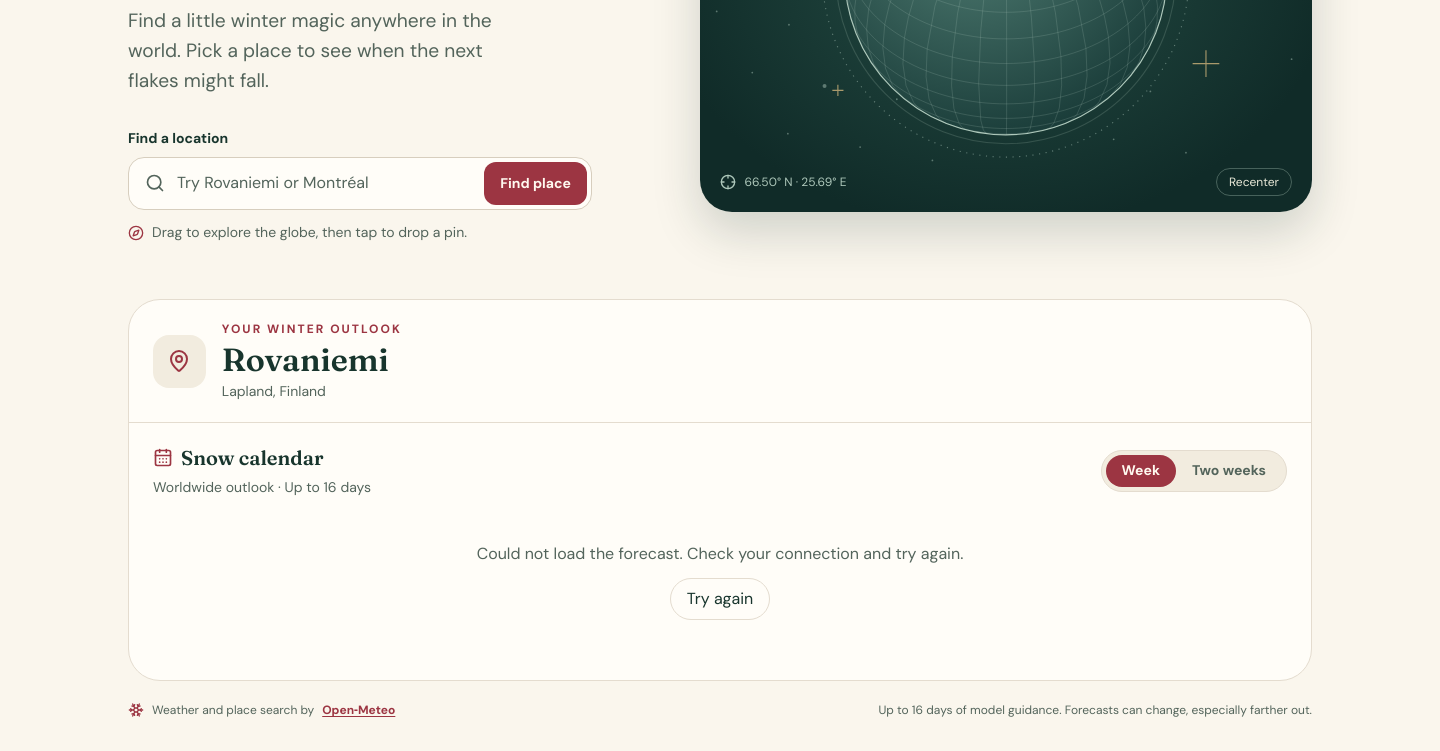
Test: Snowpost › surfaces a forecast error and can retry
The image size is (1440, 751).
(page scrolled)
Expected: the message shows "Could not load the forecast", top-left (477, 543), bottom-right (963, 564)
Step 1. Click the button "Try again" → point(720, 599), box top-left (670, 578), bottom-right (770, 620)
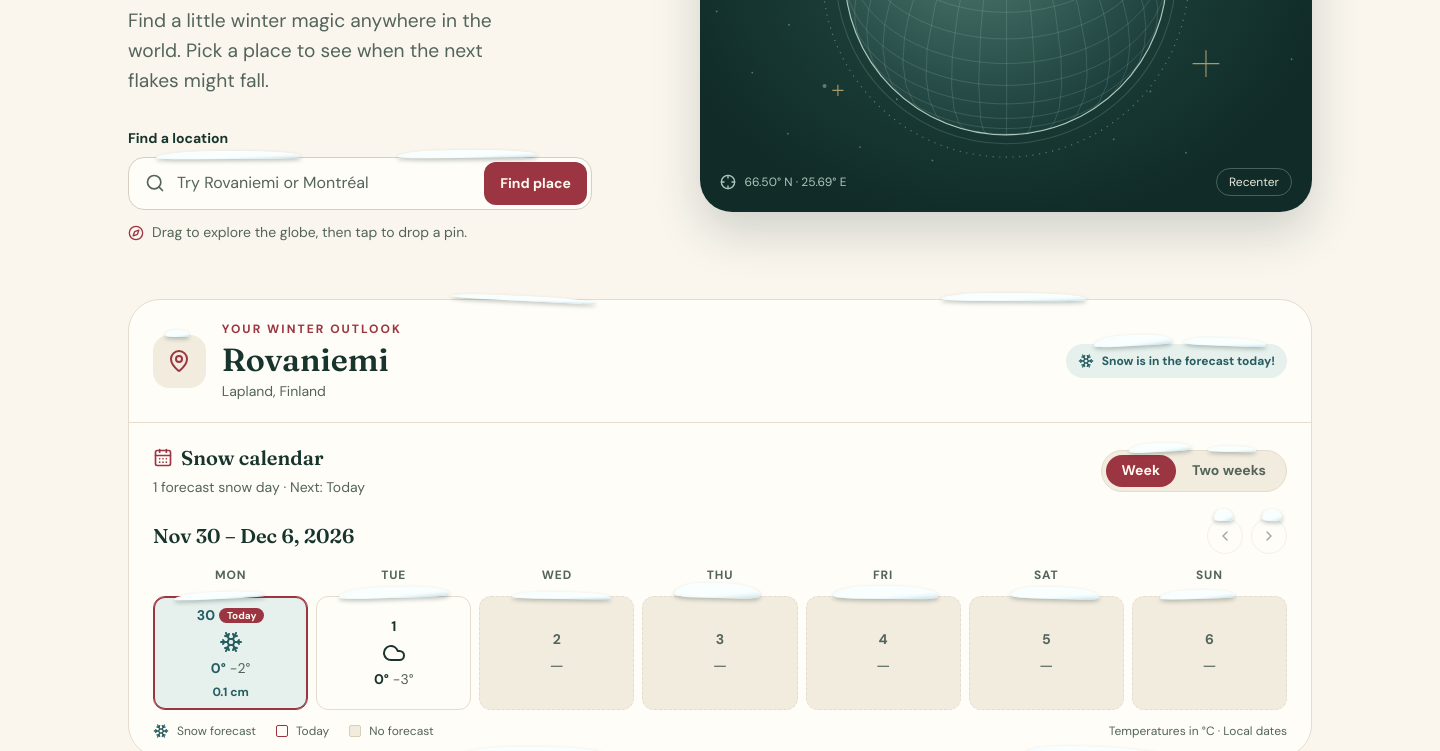
Expected: the text "Snow is in the forecast today!" is shown, top-left (1066, 344), bottom-right (1287, 378)
